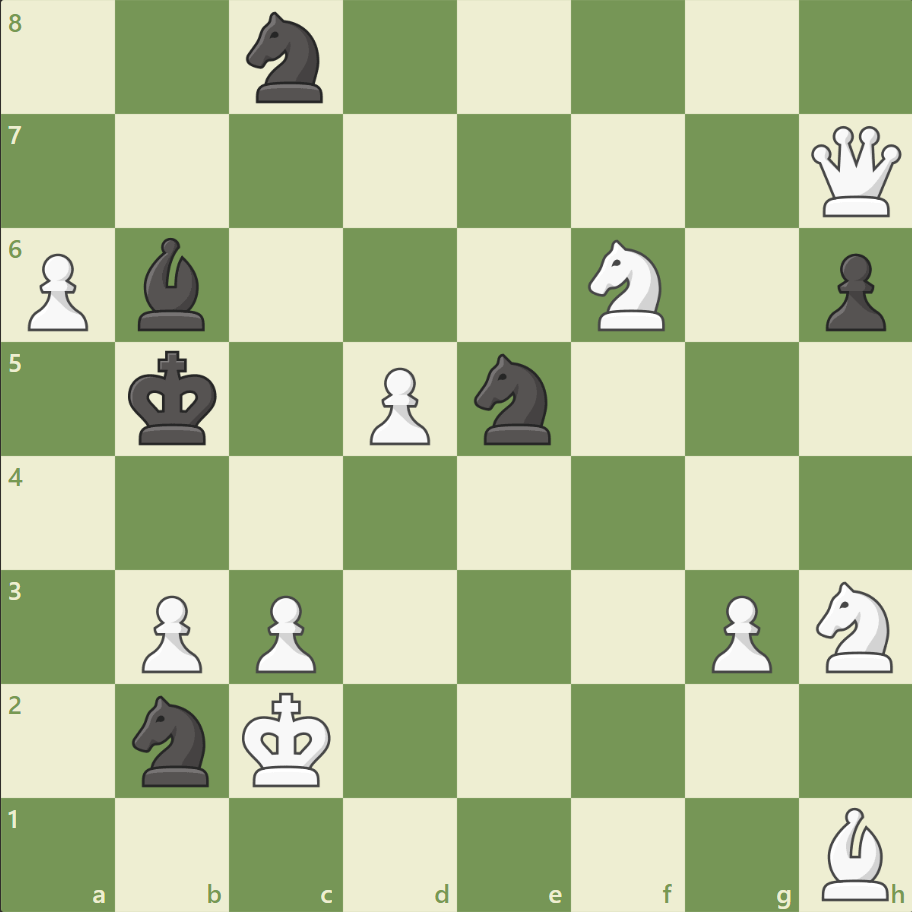B: (812, 801, 896, 904)
K: (238, 685, 338, 793)
N: (579, 234, 676, 337), (806, 575, 903, 677)
P: (20, 246, 95, 337), (133, 586, 208, 677), (247, 586, 322, 677), (701, 586, 776, 677), (361, 359, 435, 450)
Q: (805, 122, 904, 222)
b: (131, 233, 215, 336)
k: (124, 344, 224, 452)
n: (124, 688, 222, 791), (238, 7, 335, 110), (465, 348, 562, 450)
p: (815, 246, 889, 337)
